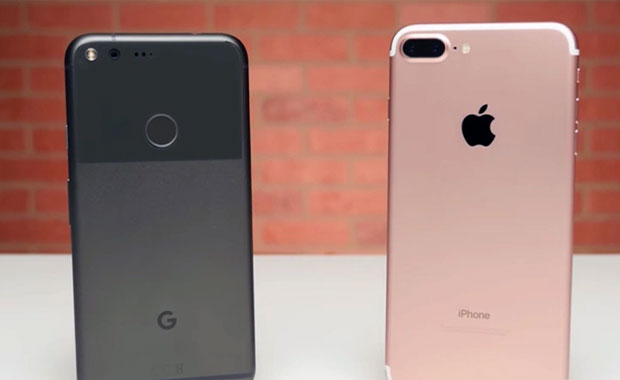apple: (459, 94, 503, 159)
